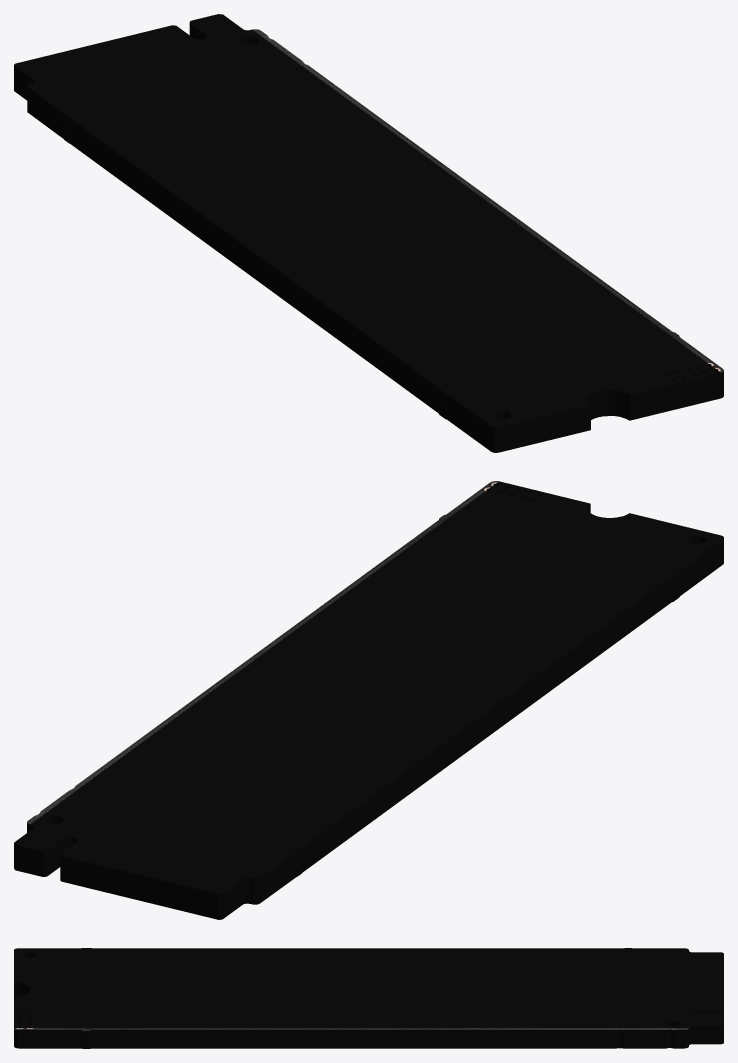
Rendered from ssd-samsung-990-pro-2tb_lod1.glb.
3 views of the same model, one above another, from view 1: azimuth 30°, elevation 25°; view 2: azimuth 150°, elevation 25°; view 3: azimuth 270°, elevation 25° (orthographic). The views are drawn at different scales.
Parts seen in each view (by area): view 1: body; view 2: body; view 3: body.
Part boxes in pixels (<box>): body: <box>14,14,723,452</box>; body: <box>14,481,723,919</box>; body: <box>14,948,723,1048</box>.
Size of the model in its own units: 0.022 by 0.00229 by 0.08.
2 materials, 1 textured.
